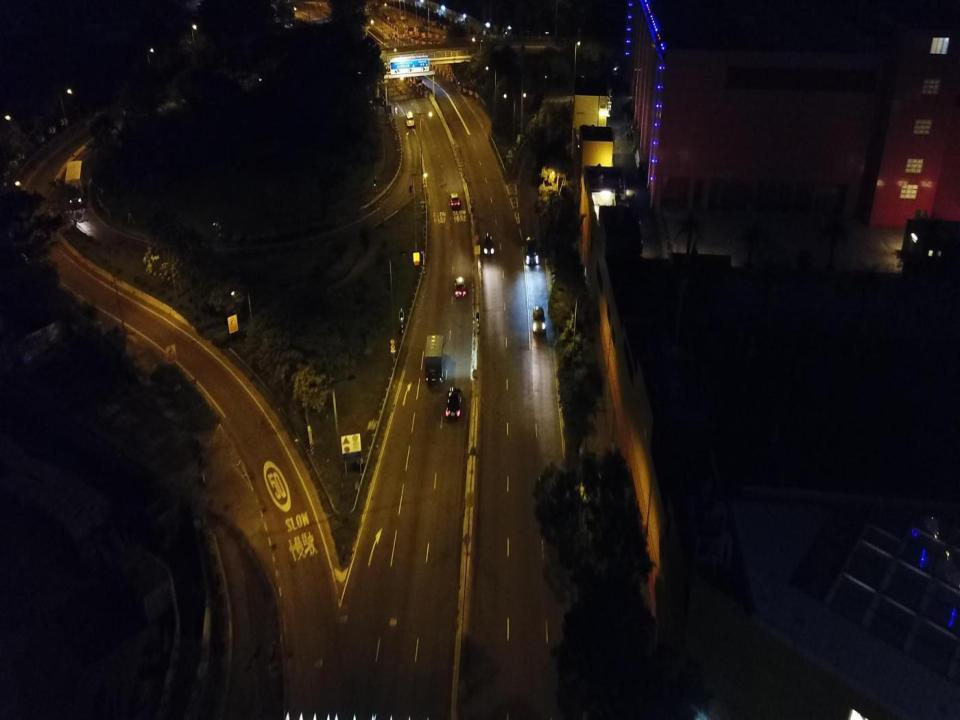car: (444, 386, 463, 418), (526, 236, 538, 265), (533, 306, 545, 334), (455, 276, 466, 297), (484, 234, 495, 254), (450, 193, 459, 208)
truck: (424, 333, 444, 382), (65, 160, 86, 205)
van: (405, 112, 414, 127)
